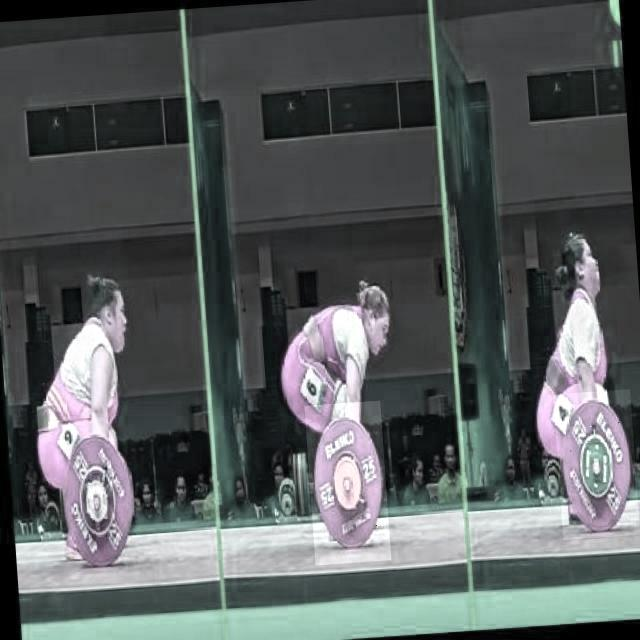barbell: (305, 400, 392, 565), (55, 425, 145, 580), (554, 390, 640, 540)
